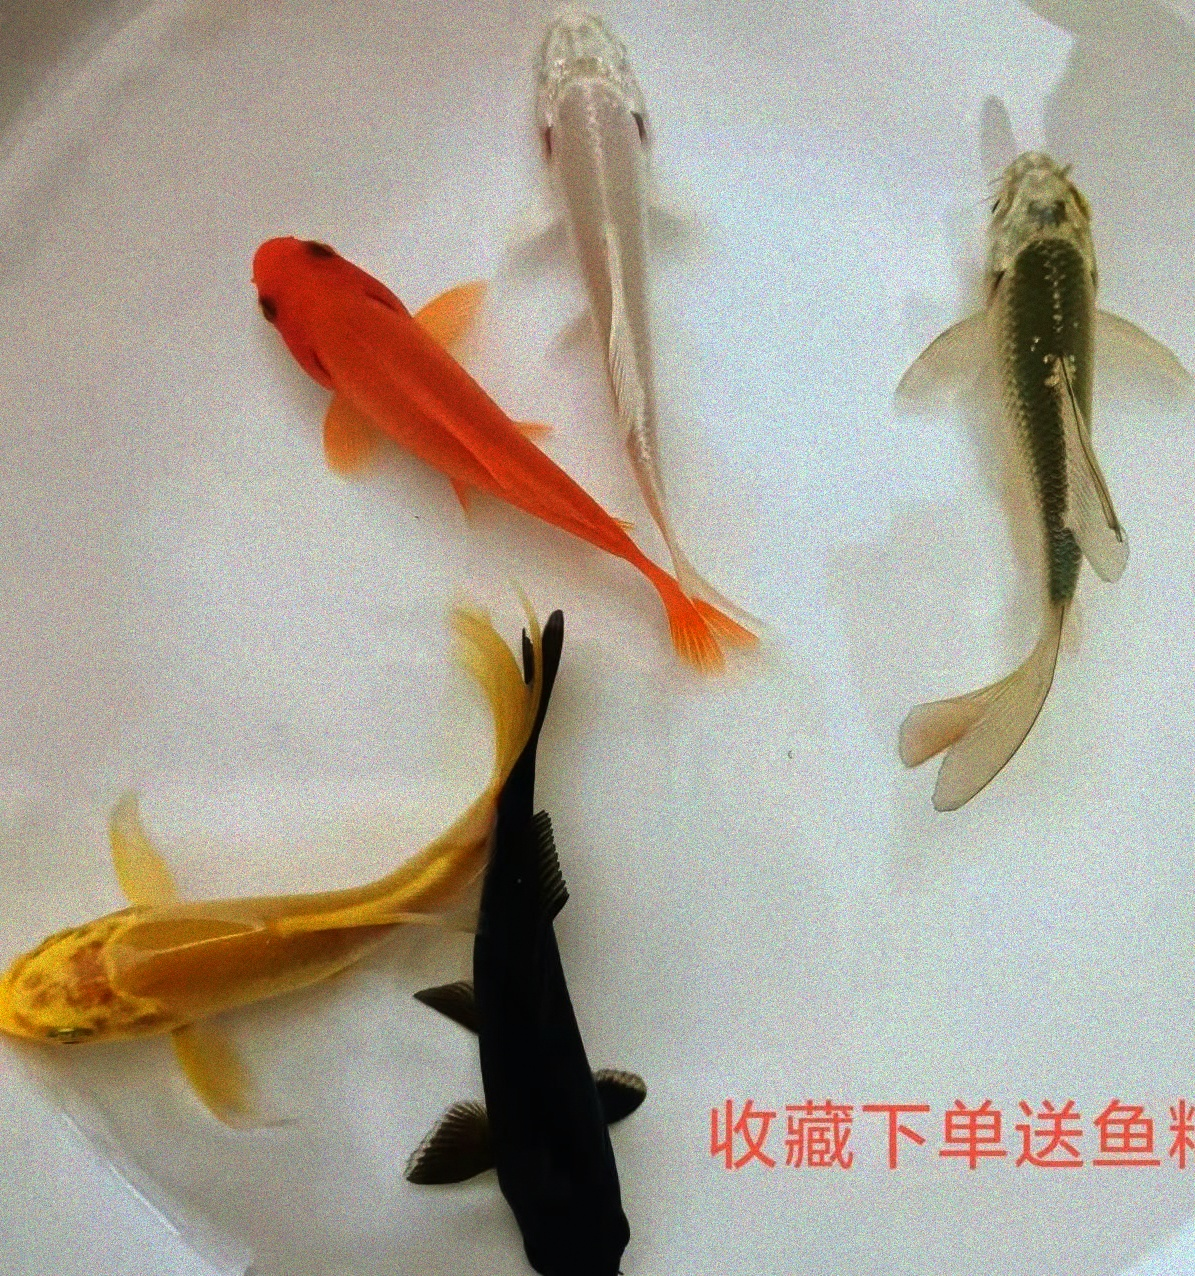fry: (852, 130, 1191, 828), (2, 704, 413, 1101), (226, 218, 624, 622), (443, 776, 692, 1276), (484, 13, 732, 509)
